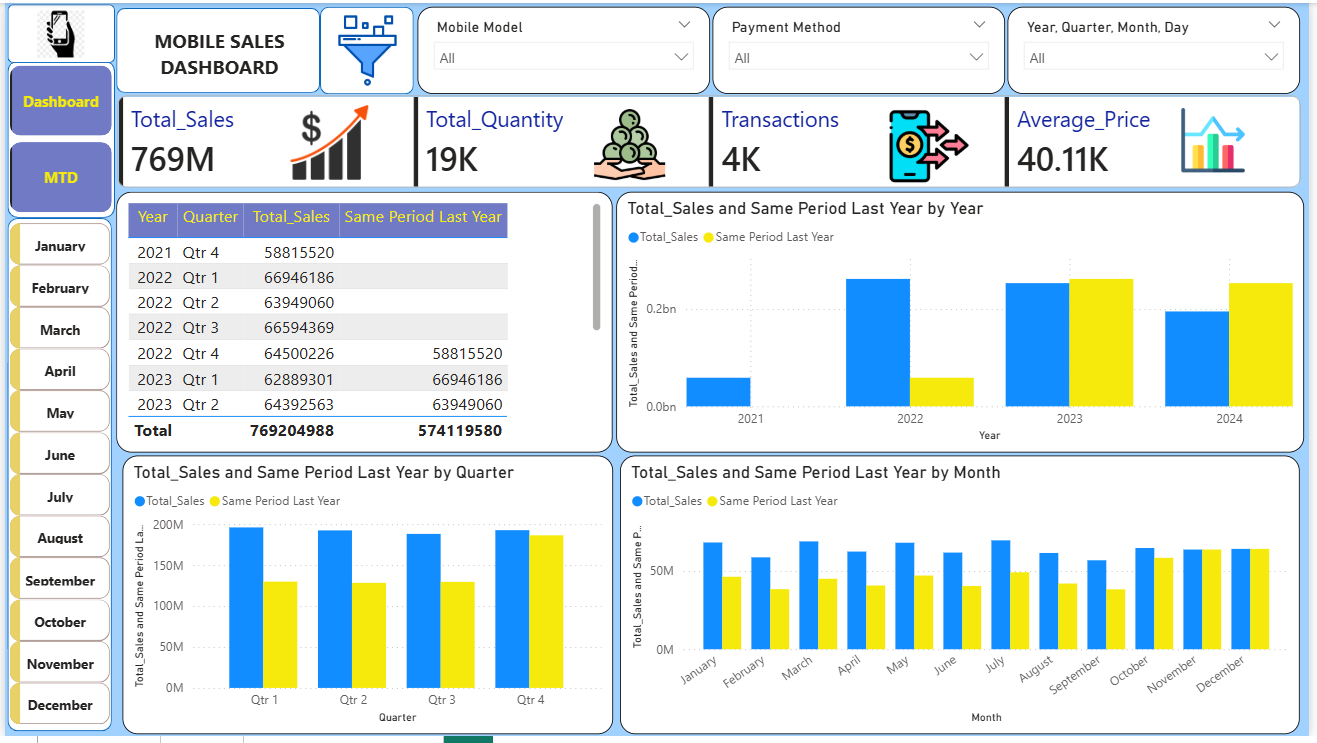

What the dashboard file says about the page in this screenshot:
{"tool":"powerbi","page":{"name":"Same Period Last Year","canvas":[1280,720],"ordinal":2},"visuals":[{"type":"shape","box":[2.5,1.2,105.5,57.7],"z":0,"group":"g3"},{"type":"shape","box":[309.2,3.7,92,85.9],"z":0,"group":"g2"},{"type":"shape","box":[2.5,56.4,105.5,154.6],"z":0},{"type":"cardVisual","fields":{"Data":["Mobile_Sales_Data.Total_Sales","Mobile_Sales_Data.Total_Quantity","Mobile_Sales_Data.Transactions","Mobile_Sales_Data.Average_Price"]},"box":[105.5,85.9,1173,100.6],"z":0,"group":"g1"},{"type":"image","box":[319,11.1,73.6,71.2],"z":1000,"group":"g2"},{"type":"group","id":"g1","title":"Group 1","box":[105.5,85.9,1173,100.6],"z":1000},{"type":"image","box":[1120.3,103.4,131.3,62.9],"z":1000,"group":"g1"},{"type":"slicer","fields":{"Values":["Mobile_Sales_Data.Mobile Model"]},"box":[404.9,3.7,287.1,85.9],"z":2000},{"type":"image","box":[849.1,101.4,116.6,77.4],"z":2000,"group":"g1"},{"type":"slicer","fields":{"Values":["Mobile_Sales_Data.Payment Method"]},"box":[694.5,3.7,287.1,85.9],"z":3000},{"type":"image","box":[257.7,95.7,121.5,82.2],"z":3000,"group":"g1"},{"type":"slicer","fields":{"Values":["Custom_Calender.Date.Variation.Date Hierarchy.Year","Custom_Calender.Date.Variation.Date Hierarchy.Quarter","Custom_Calender.Date.Variation.Date Hierarchy.Month","Custom_Calender.Date.Variation.Date Hierarchy.Day"]},"box":[984.1,3.7,287.1,85.9],"z":4000},{"type":"image","box":[547.3,101.4,131.3,74.5],"z":4000,"group":"g1"},{"type":"group","id":"g2","title":"Group 2","box":[309.2,3.7,92,85.9],"z":5000},{"type":"shape","box":[109.2,4.9,200,83.4],"z":6000},{"type":"textbox","box":[127.6,19.6,165.6,62.6],"z":7000},{"type":"group","id":"g3","title":"Group 3","box":[2.5,1.2,105.5,57.7],"z":8000},{"type":"tableEx","fields":{"Values":["Custom_Calender.Date.Variation.Date Hierarchy.Year","Custom_Calender.Date.Variation.Date Hierarchy.Quarter","Mobile_Sales_Data.Total_Sales","Mobile_Sales_Data.Same Period Last Year"]},"box":[108.8,185,487.5,256.2],"z":9000},{"type":"shape","box":[2.5,211.2,102.5,503.8],"z":10000},{"type":"advancedSlicerVisual","fields":{"Values":["Custom_Calender.Date.Variation.Date Hierarchy.Month"]},"box":[0,211.2,108.8,503.8],"z":11000},{"type":"clusteredColumnChart","fields":{"Category":["Custom_Calender.Date.Variation.Date Hierarchy.Year","Custom_Calender.Date.Variation.Date Hierarchy.Quarter"],"Y":["Mobile_Sales_Data.Total_Sales","Mobile_Sales_Data.Same Period Last Year"]},"box":[600,185,675,256.2],"z":12000},{"type":"clusteredColumnChart","fields":{"Y":["Mobile_Sales_Data.Total_Sales","Mobile_Sales_Data.Same Period Last Year"],"Category":["Custom_Calender.Date.Variation.Date Hierarchy.Month","Custom_Calender.Date.Variation.Date Hierarchy.Day"]},"box":[603.8,443.8,667.5,273.8],"z":13000},{"type":"image","box":[14.8,7.3,79.8,46.6],"z":13005,"group":"g3"},{"type":"clusteredColumnChart","fields":{"Category":["Custom_Calender.Date.Variation.Date Hierarchy.Quarter"],"Y":["Mobile_Sales_Data.Total_Sales","Mobile_Sales_Data.Same Period Last Year"]},"box":[115,443.8,481.2,273.8],"z":14000},{"type":"pageNavigator","box":[5,61.2,100,145],"z":15000}]}

Visuals, with their boxes in screenshot pixels (x1, y1, x2, y2), scaled from the page's 1280x720 canvas onto the 1317x743 screenshot:
shape: [3, 1, 111, 61]
shape: [318, 4, 413, 92]
shape: [3, 58, 111, 218]
cardVisual - Mobile_Sales_Data.Total_Sales x Mobile_Sales_Data.Total_Quantity: [109, 89, 1315, 192]
image: [328, 11, 404, 85]
"Group 1" group: [109, 89, 1315, 192]
image: [1153, 107, 1288, 172]
slicer - Mobile_Sales_Data.Mobile Model: [417, 4, 712, 92]
image: [874, 105, 994, 185]
slicer - Mobile_Sales_Data.Payment Method: [715, 4, 1010, 92]
image: [265, 99, 390, 184]
slicer - Custom_Calender.Date.Variation.Date Hierarchy.Year x Custom_Calender.Date.Variation.Date Hierarchy.Quarter: [1013, 4, 1308, 92]
image: [563, 105, 698, 182]
"Group 2" group: [318, 4, 413, 92]
shape: [112, 5, 318, 91]
textbox: [131, 20, 302, 85]
"Group 3" group: [3, 1, 111, 61]
tableEx - Custom_Calender.Date.Variation.Date Hierarchy.Year x Custom_Calender.Date.Variation.Date Hierarchy.Quarter: [112, 191, 614, 455]
shape: [3, 218, 108, 738]
advancedSlicerVisual - Custom_Calender.Date.Variation.Date Hierarchy.Month: [0, 218, 112, 738]
clusteredColumnChart - Custom_Calender.Date.Variation.Date Hierarchy.Year x Custom_Calender.Date.Variation.Date Hierarchy.Quarter: [617, 191, 1312, 455]
clusteredColumnChart - Mobile_Sales_Data.Total_Sales x Mobile_Sales_Data.Same Period Last Year: [621, 458, 1308, 741]
image: [15, 8, 97, 56]
clusteredColumnChart - Custom_Calender.Date.Variation.Date Hierarchy.Quarter x Mobile_Sales_Data.Total_Sales: [118, 458, 613, 741]
pageNavigator: [5, 63, 108, 213]
